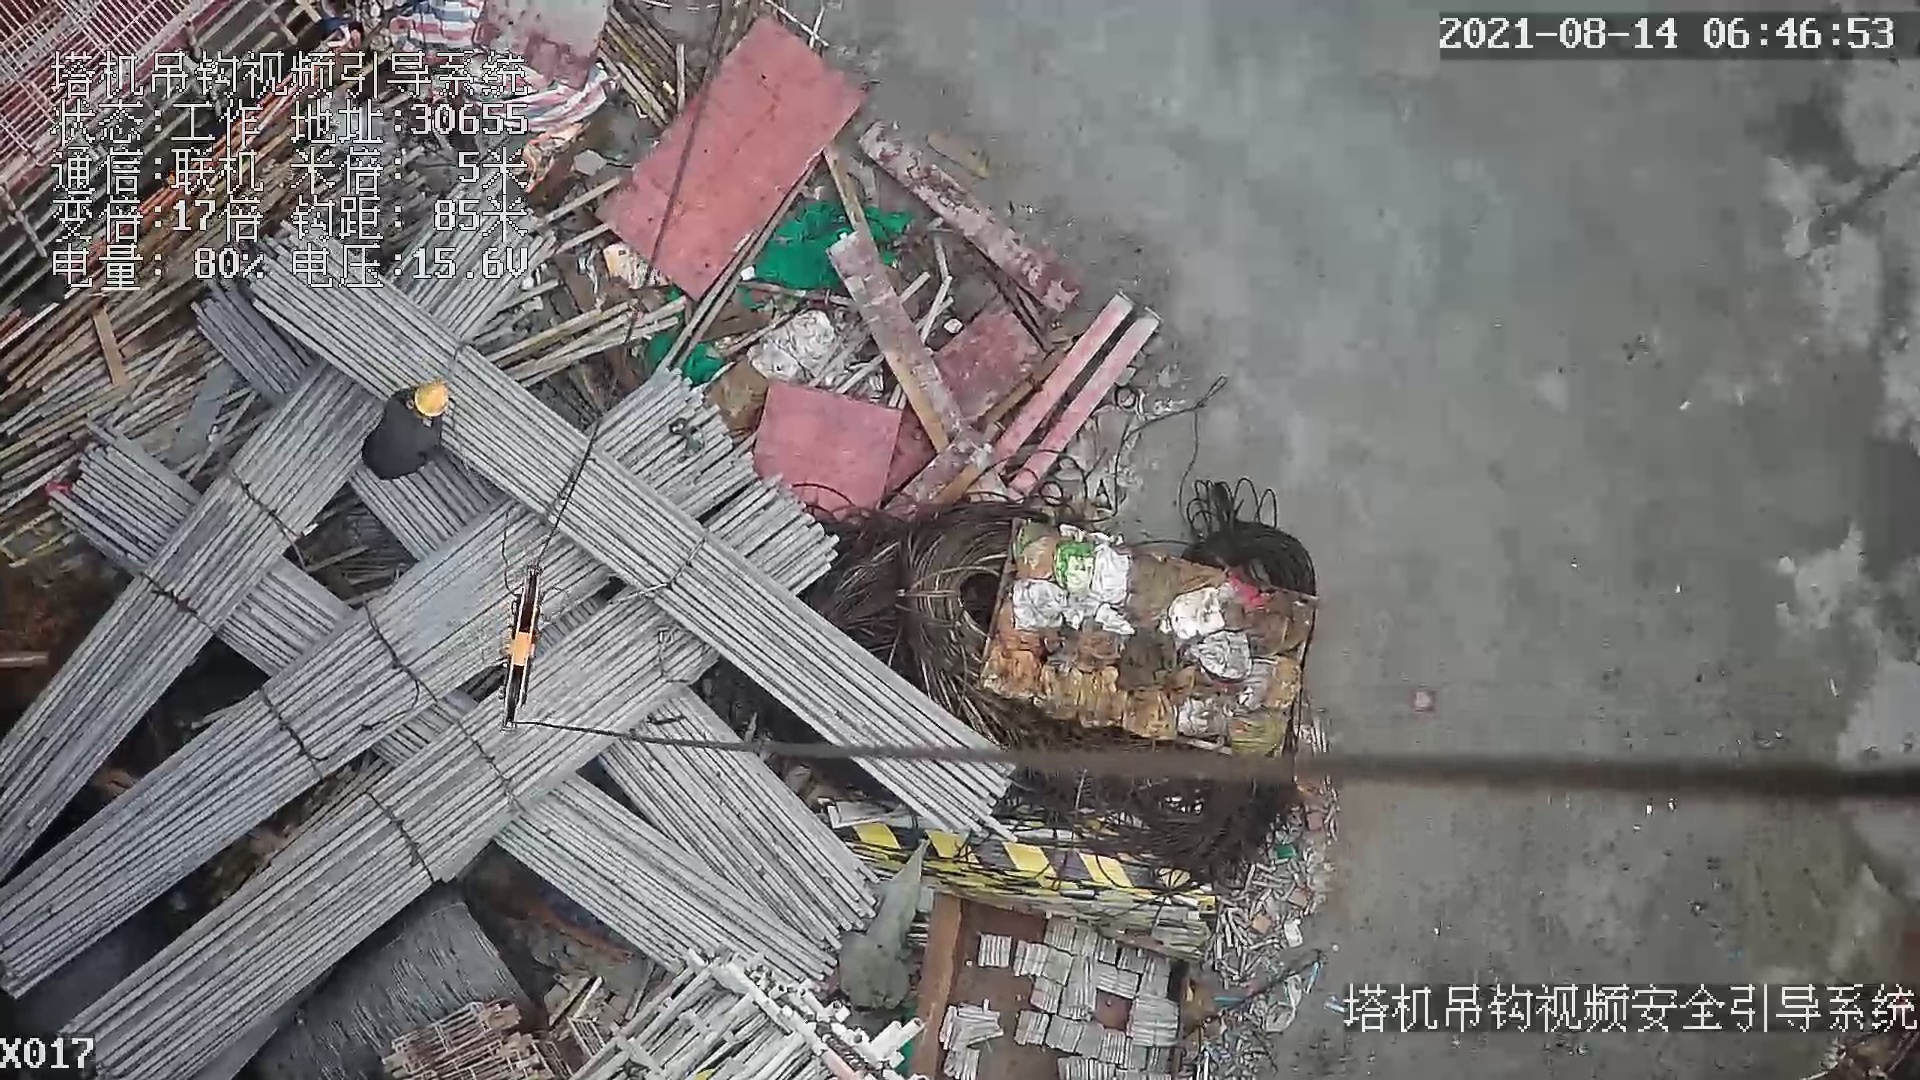board: (592, 16, 874, 300)
helmet: (412, 380, 456, 420)
hook: (496, 564, 551, 744)
person: (351, 371, 460, 491)
